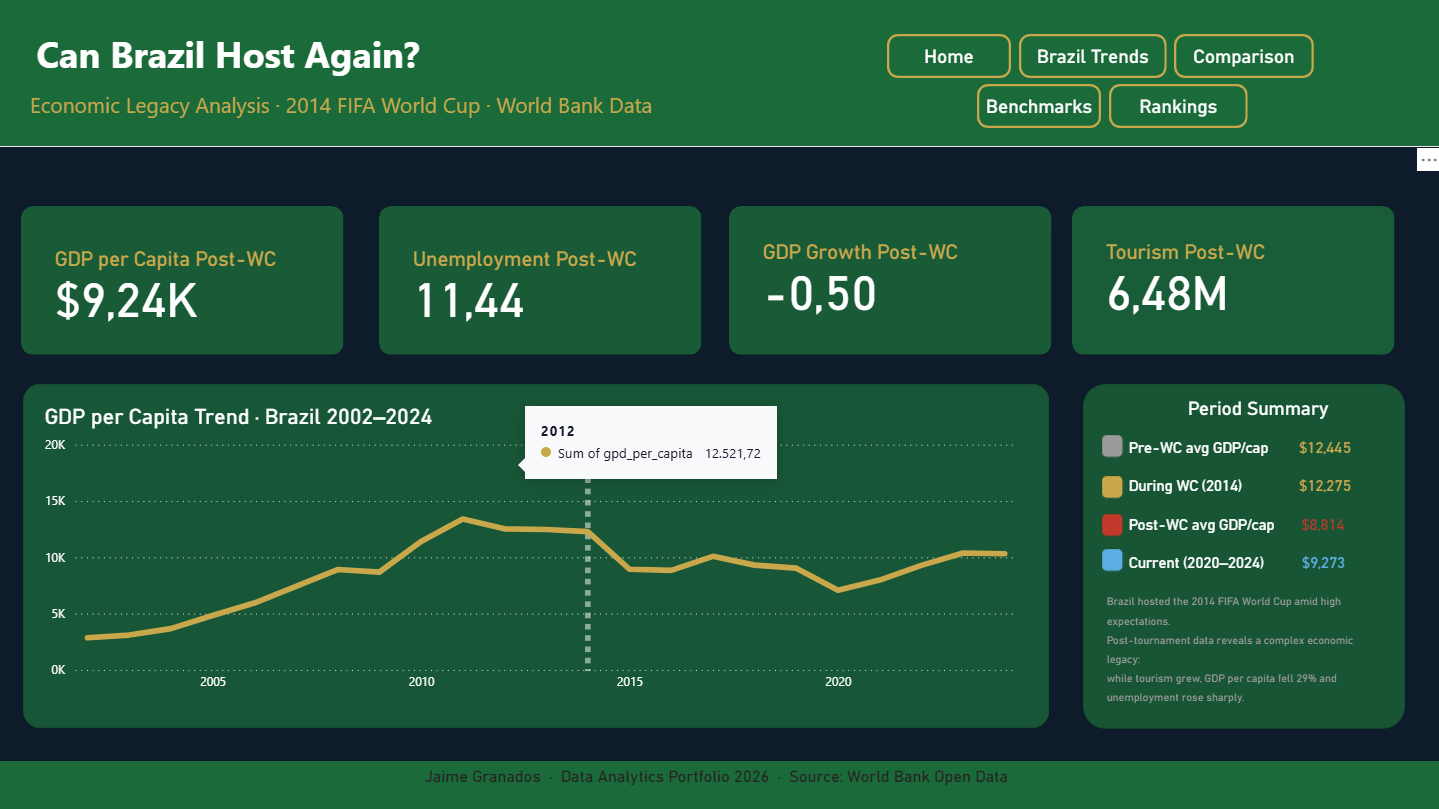

The page's visual inventory and layout, read from the dashboard file:
{"tool":"powerbi","page":{"name":"Overview","canvas":[1280,720],"ordinal":1},"visuals":[{"type":"shape","box":[0,0,1280,132],"z":0},{"type":"textbox","box":[20,22,462,66],"z":1000},{"type":"textbox","box":[0,74,600,44],"z":2000},{"type":"shape","box":[20,184,286,132],"z":3000},{"type":"cardVisual","fields":{"Data":["v_brazil_trends.GDP per Capita Post-WC"]},"box":[20,196,280,120],"z":4000},{"type":"shape","box":[338,184,286,132],"z":5000},{"type":"shape","box":[648,184,286,132],"z":6000},{"type":"shape","box":[952,184,286,132],"z":7000},{"type":"cardVisual","fields":{"Data":["v_brazil_trends.Unemployment Post-WC"]},"box":[338,196,286,120],"z":8000},{"type":"cardVisual","fields":{"Data":["v_brazil_trends.GDP Growth Post-WC"]},"box":[648,190,286,120],"z":9000},{"type":"cardVisual","fields":{"Data":["v_brazil_trends.Tourism Post-WC"]},"box":[952,190,286,120],"z":10000},{"type":"shape","box":[22.5,342.5,910,305],"z":11000},{"type":"shape","box":[962.2,342.2,285.6,305.6],"z":12000},{"type":"lineChart","title":"GDP per Capita Trend · Brazil 2002–2024","fields":{"Category":["v_brazil_trends.year"],"Y":["Sum(v_brazil_trends.gpd_per_capita)"]},"box":[36.7,360,873.3,277.8],"z":13000},{"type":"textbox","box":[997.8,348.9,240,171.1],"z":14000},{"type":"shape","box":[977.8,487.8,20,21.1],"z":15000},{"type":"shape","box":[977.8,456.7,20,21.1],"z":16000},{"type":"shape","box":[977.8,423.3,20,21.1],"z":17000},{"type":"shape","box":[977.8,386.7,20,21.1],"z":18000},{"type":"textbox","box":[977.8,520,260,117.8],"z":19000},{"type":"shape","box":[0,676.7,1280,43.3],"z":20000},{"type":"textbox","box":[251.1,676.7,772.2,43.3],"z":21000},{"type":"actionButton","box":[905,32,131,39],"z":22000},{"type":"actionButton","box":[1043,32,124,39],"z":23000},{"type":"actionButton","box":[985,76,123,39],"z":24000},{"type":"actionButton","box":[868,76,110,39],"z":25000},{"type":"actionButton","box":[788,32,110,39],"z":26000}]}

Visuals, with their boxes in screenshot pixels (x1, y1, x2, y2), scaled from the page's 1280x720 canvas onto the 1439x809 screenshot:
shape: bbox(0, 0, 1438, 148)
textbox: bbox(22, 25, 542, 99)
textbox: bbox(0, 83, 675, 133)
shape: bbox(22, 207, 344, 355)
cardVisual - v_brazil_trends.GDP per Capita Post-WC: bbox(22, 220, 337, 355)
shape: bbox(380, 207, 702, 355)
shape: bbox(728, 207, 1050, 355)
shape: bbox(1070, 207, 1392, 355)
cardVisual - v_brazil_trends.Unemployment Post-WC: bbox(380, 220, 702, 355)
cardVisual - v_brazil_trends.GDP Growth Post-WC: bbox(728, 213, 1050, 348)
cardVisual - v_brazil_trends.Tourism Post-WC: bbox(1070, 213, 1392, 348)
shape: bbox(25, 385, 1048, 728)
shape: bbox(1082, 384, 1403, 728)
"GDP per Capita Trend · Brazil 2002–2024" lineChart: bbox(41, 404, 1023, 717)
textbox: bbox(1122, 392, 1392, 584)
shape: bbox(1099, 548, 1122, 572)
shape: bbox(1099, 513, 1122, 537)
shape: bbox(1099, 476, 1122, 499)
shape: bbox(1099, 435, 1122, 458)
textbox: bbox(1099, 584, 1392, 717)
shape: bbox(0, 760, 1438, 808)
textbox: bbox(282, 760, 1150, 808)
actionButton: bbox(1017, 36, 1165, 80)
actionButton: bbox(1173, 36, 1312, 80)
actionButton: bbox(1107, 85, 1246, 129)
actionButton: bbox(976, 85, 1099, 129)
actionButton: bbox(886, 36, 1010, 80)
